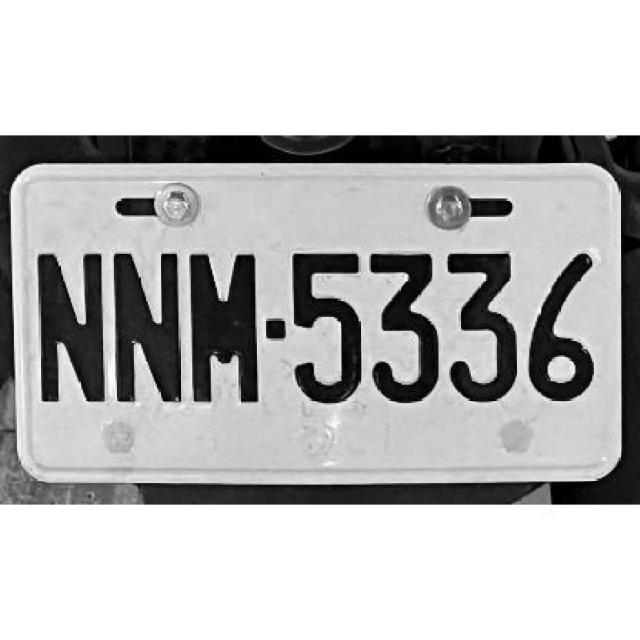-: (266, 318, 288, 342)
3: (366, 248, 442, 409), (445, 246, 520, 409)
5: (288, 244, 363, 402)
6: (525, 244, 597, 402)
M: (189, 251, 262, 406)
N: (31, 246, 108, 408), (108, 248, 184, 406)
